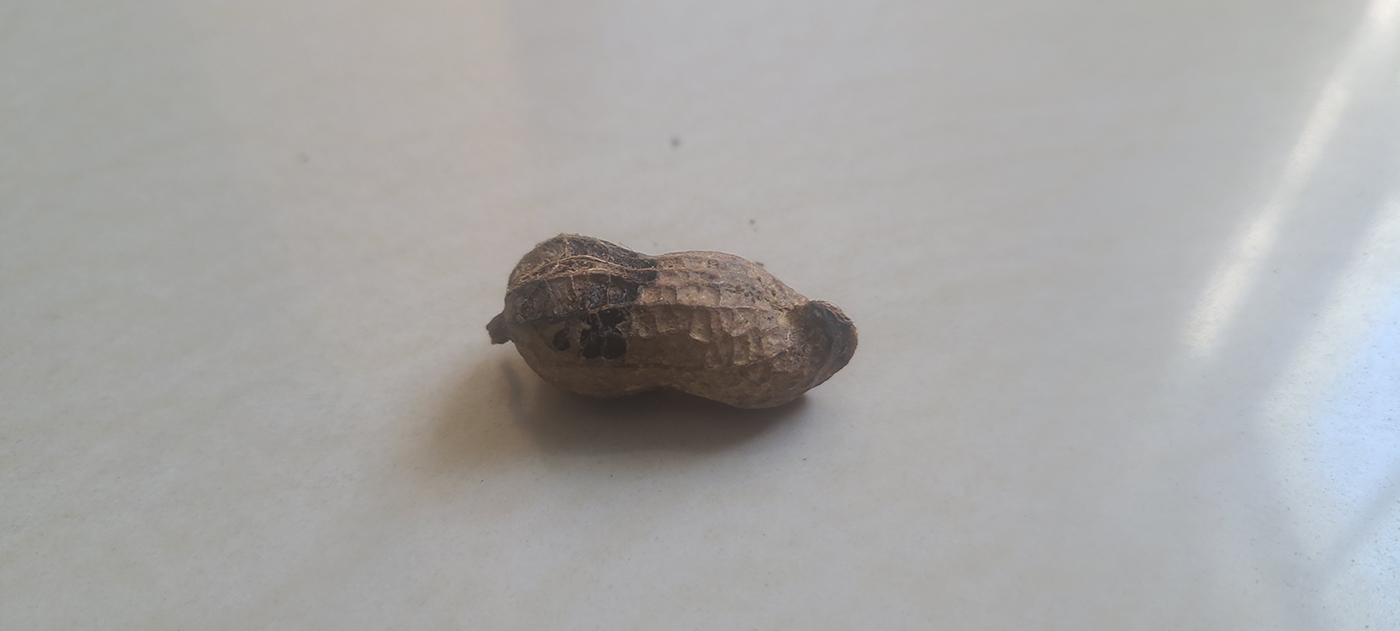l: (509, 233, 860, 404)
